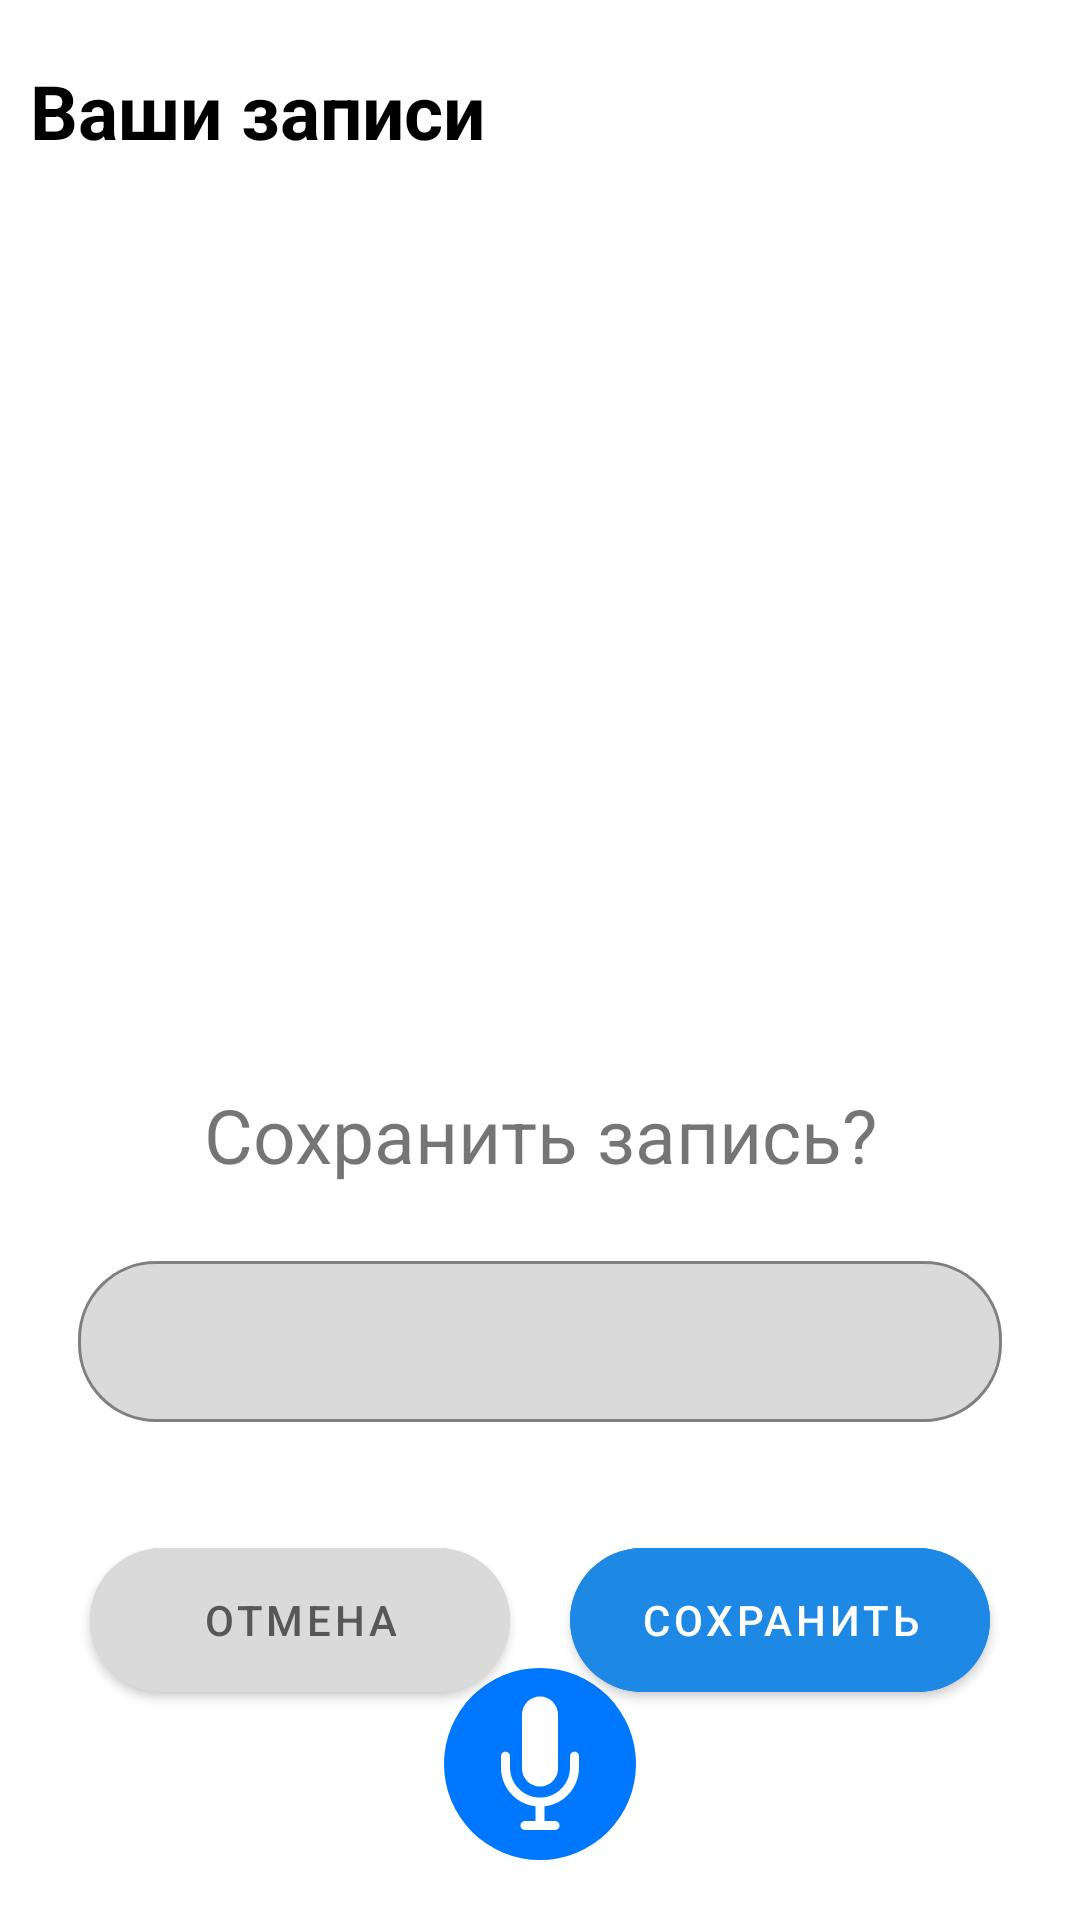

Screen size 1080px×1920px. Icon name, then its box in pixels as (x1,y1,x2,y2):
mic: (444,1668,636,1860)
